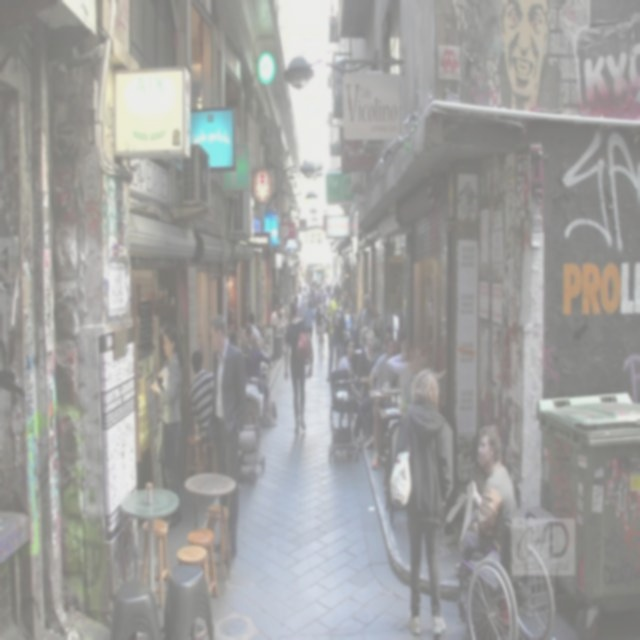pessoa: (388, 368, 454, 636), (205, 314, 248, 564), (454, 423, 520, 576), (496, 0, 551, 109), (150, 324, 183, 493), (284, 300, 314, 432), (370, 338, 398, 470), (333, 336, 365, 447), (606, 456, 638, 559), (358, 338, 386, 450), (246, 333, 278, 428), (188, 349, 214, 446), (326, 286, 342, 382), (406, 342, 430, 404), (387, 340, 415, 389), (331, 298, 348, 360), (358, 330, 376, 376), (359, 293, 379, 332), (314, 293, 326, 356), (394, 329, 406, 390), (241, 312, 261, 348), (296, 276, 328, 298), (244, 323, 260, 355), (270, 304, 286, 336), (304, 298, 314, 343), (338, 282, 354, 304), (345, 302, 356, 332), (256, 320, 268, 347), (294, 294, 303, 322), (278, 298, 288, 322), (360, 326, 370, 348), (383, 326, 395, 342), (228, 330, 238, 348), (326, 284, 332, 314), (327, 276, 342, 286), (418, 356, 430, 368), (299, 296, 308, 312), (350, 326, 360, 340), (274, 283, 280, 305), (344, 303, 351, 316), (332, 286, 338, 296)
